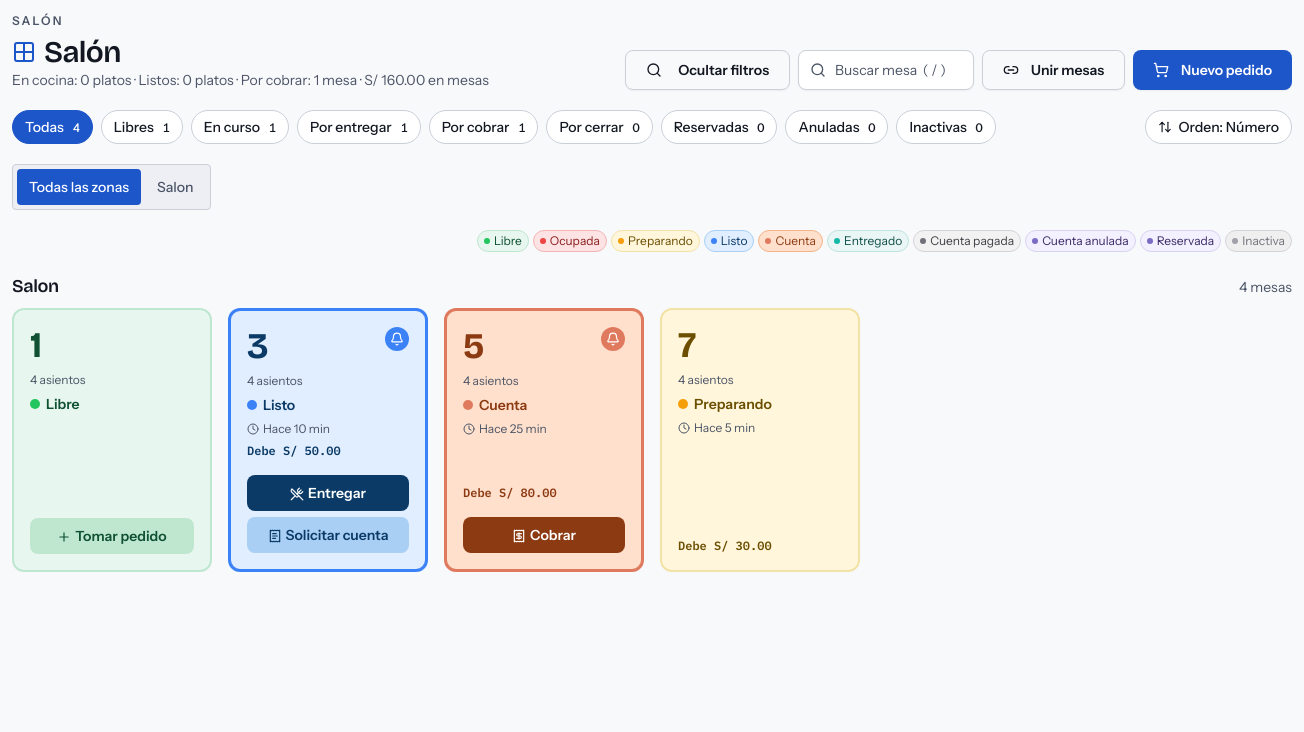
Test: Mesas floor priority and actions (T04) › toggles to priority order on demand and remembers the choice
Click the button with test id "salon-orden" at (1219, 127), box [1146,110,1292,144]
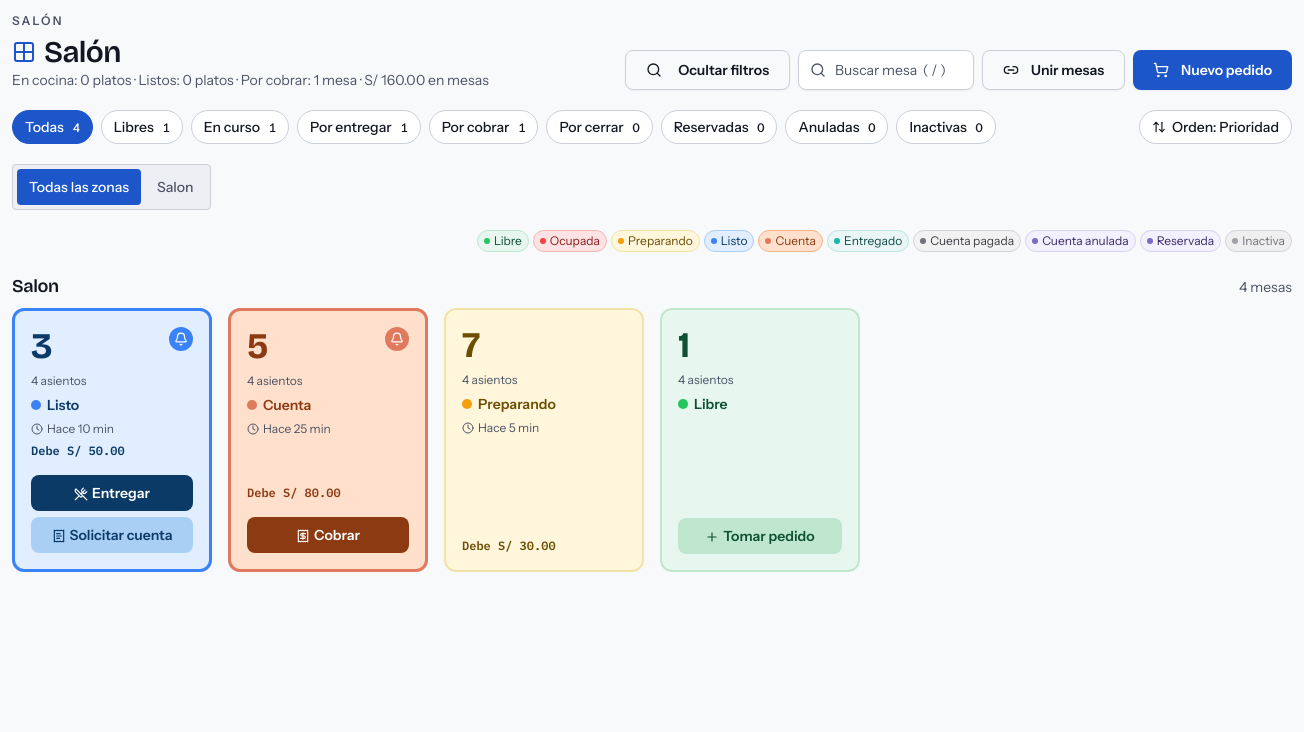
Expected: the button with test id "salon-orden" shows "Prioridad", [1139,110,1292,144]
